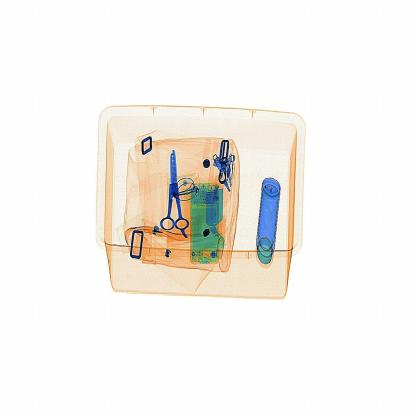gun: (158, 145, 198, 243)
